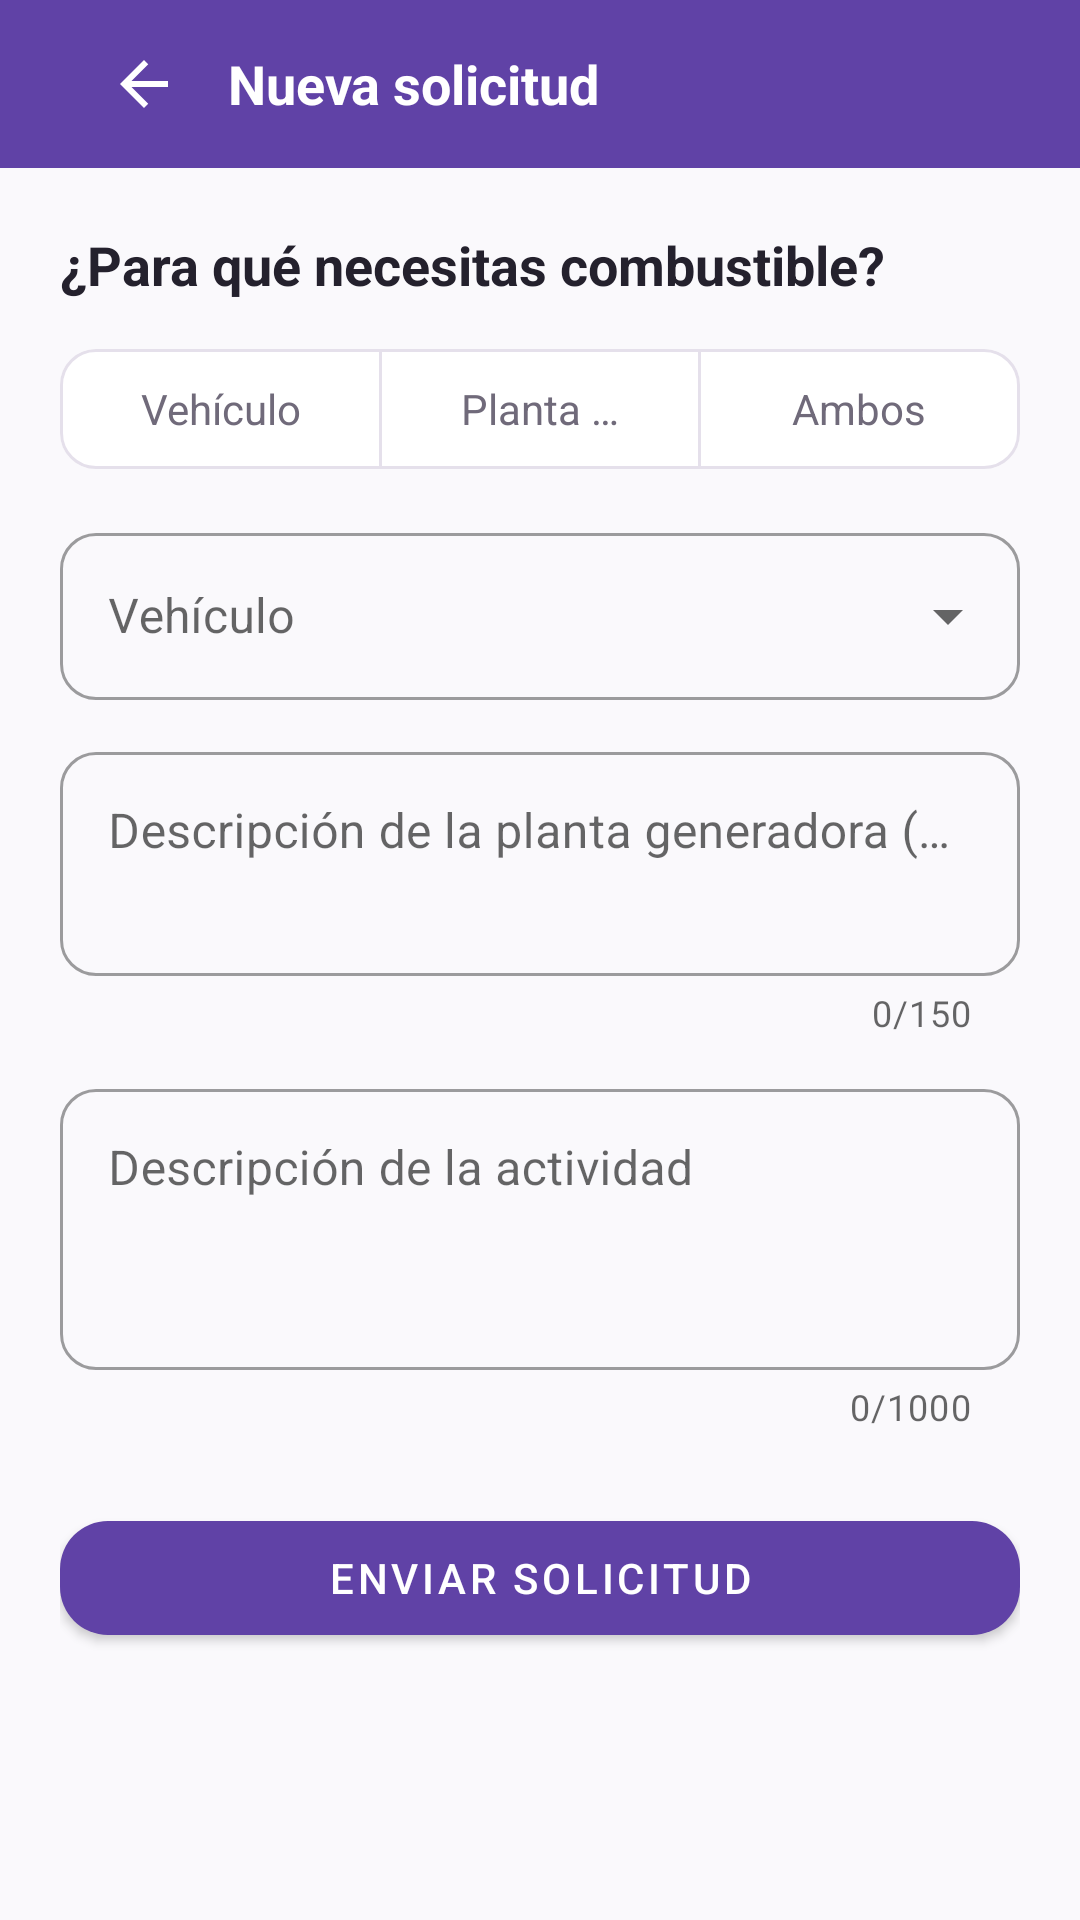

Named icons in this screenshot (1080 × 1920) and their bounding boxes, (x1, y1, x2, y2):
Volver: (120, 60, 168, 108)
